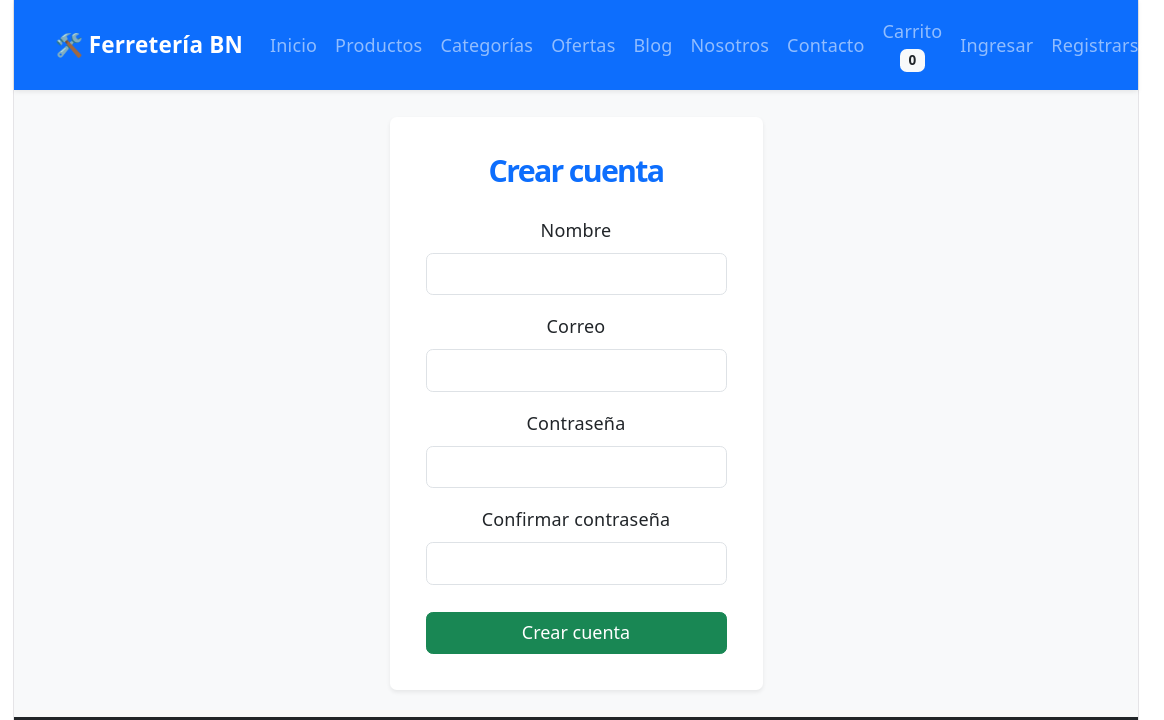
Test: Registro (página) › avisa si el correo ya está registrado
Step 1. Type "Gabo" into the field labelled "Nombre" → (576, 274), box [426,253,726,295]
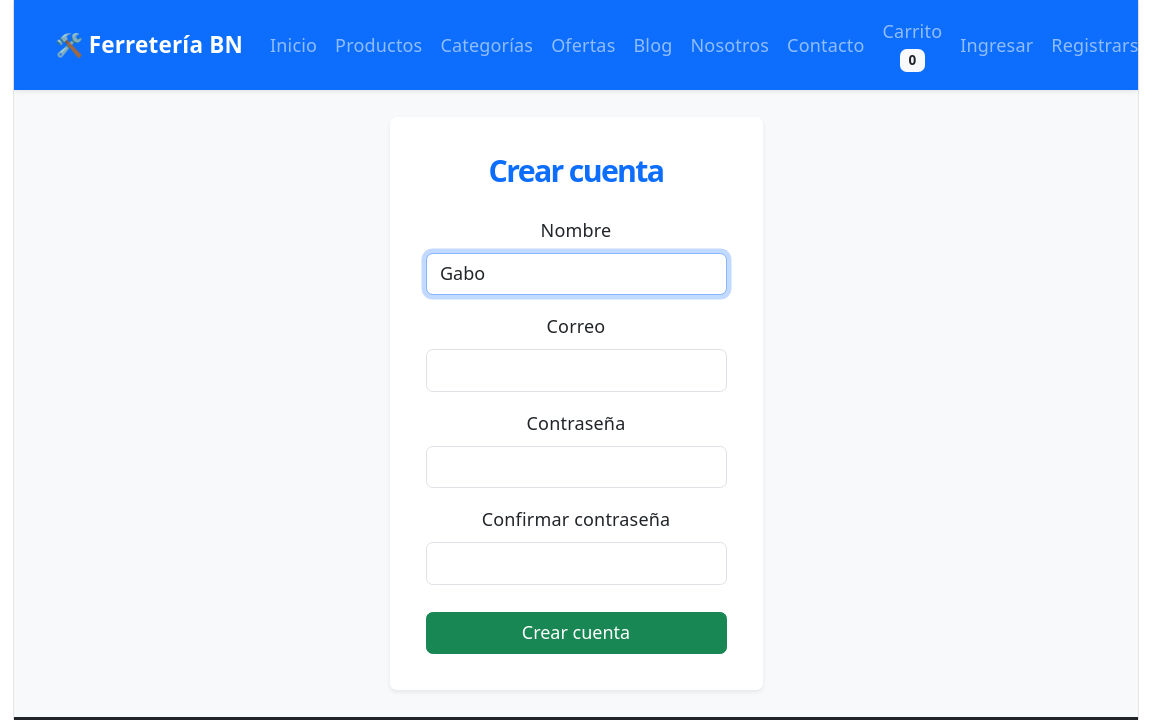
Step 2. Type "gabo@correo.cl" into the field labelled "Correo" → (576, 370), box [426,349,726,392]
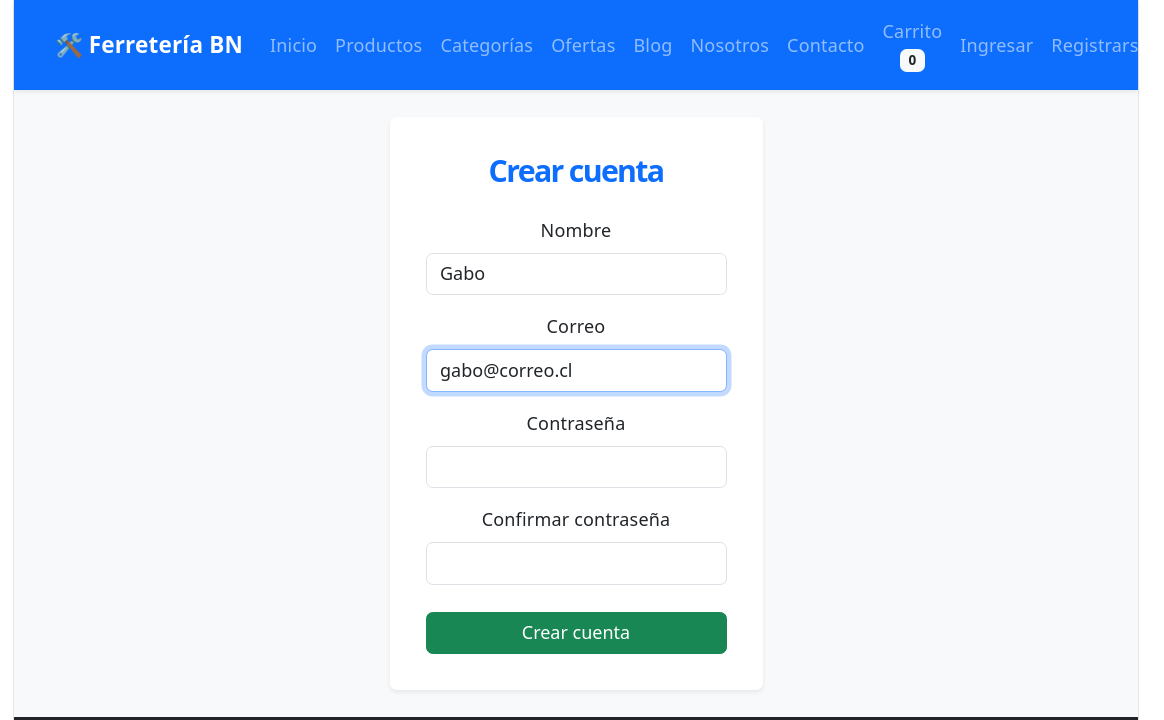
Step 3. Type "123456" into the password field labelled "Contraseña" → (576, 467), box [426,446,726,488]
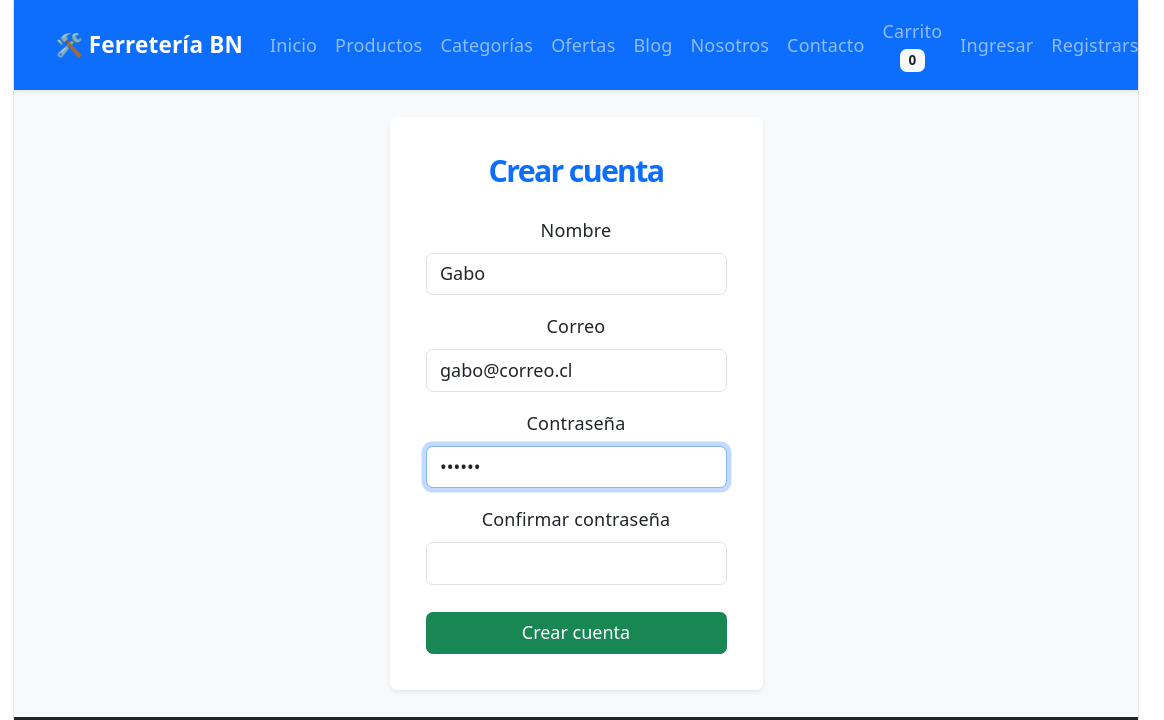
Step 4. Type "123456" into the password field labelled "Confirmar contraseña" → (576, 563), box [426,542,726,585]
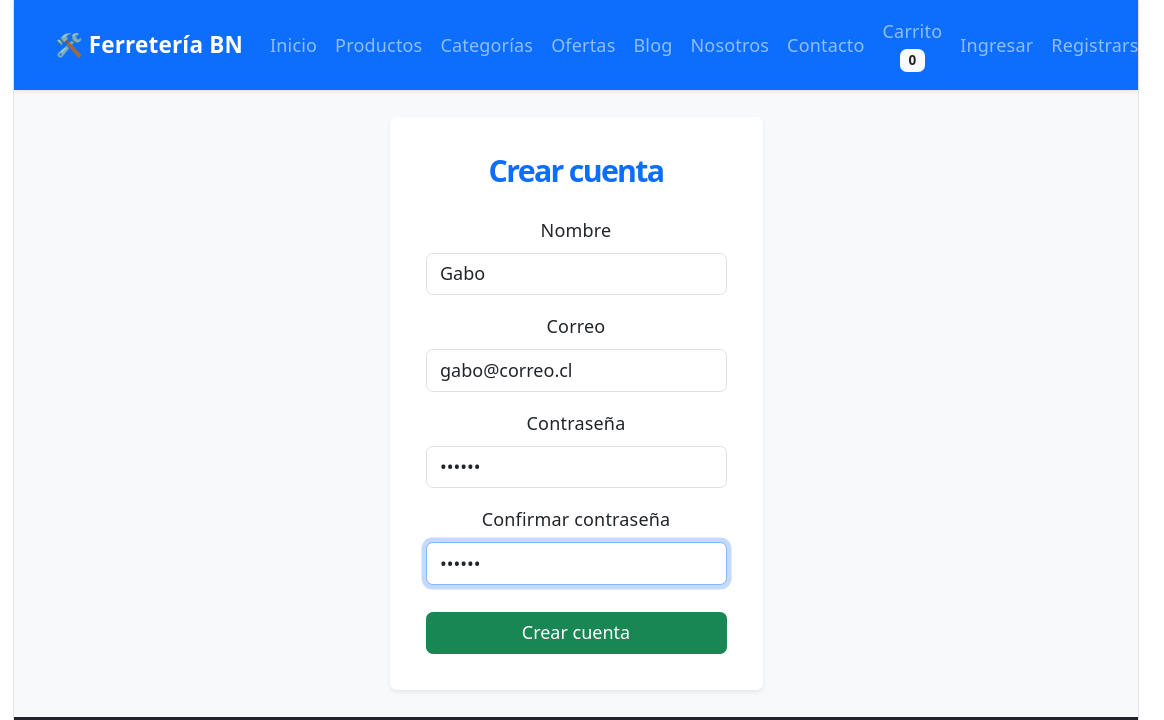
Step 5. Click the button "Crear cuenta" → click(576, 633), box [426,612,726,654]
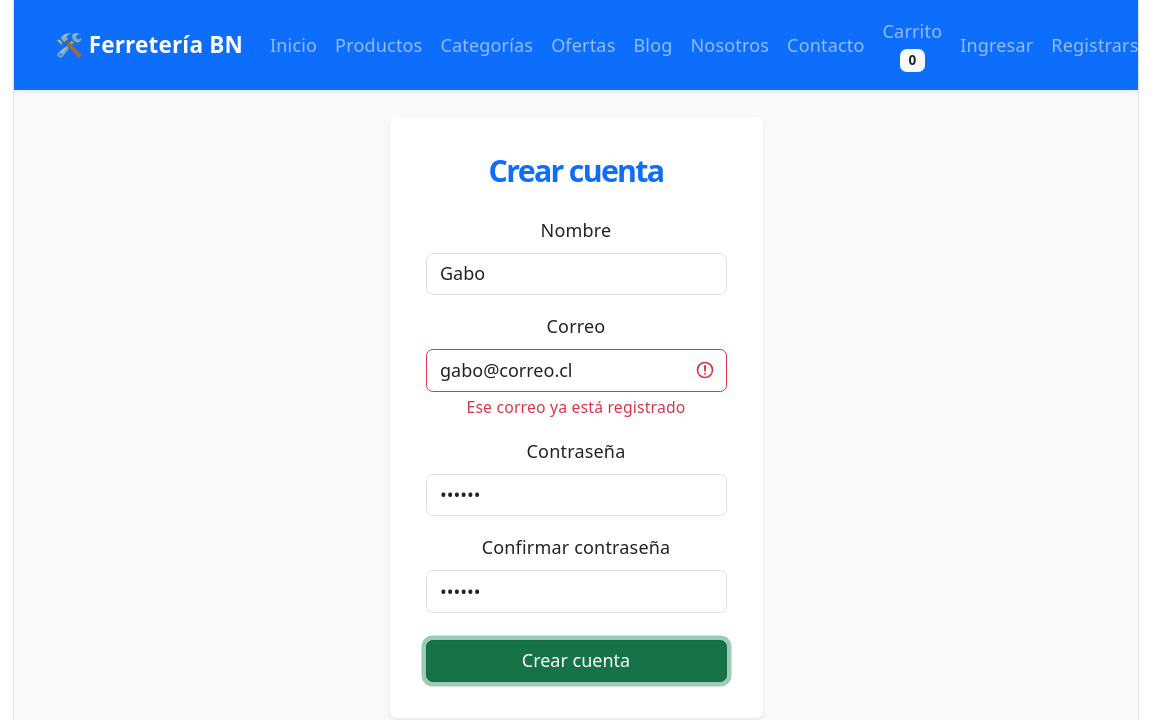
Check: the text "Ese correo ya está registrado" is shown, box [466,396,686,418]
